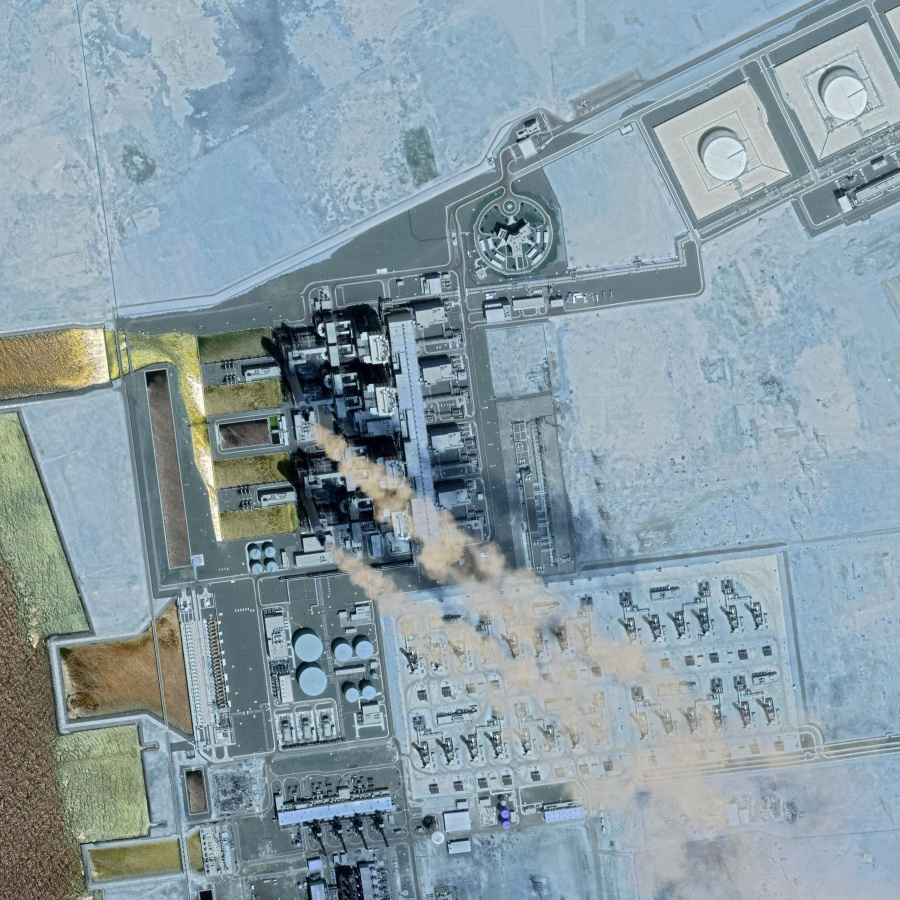PowerPlant: (182, 290, 625, 698)
